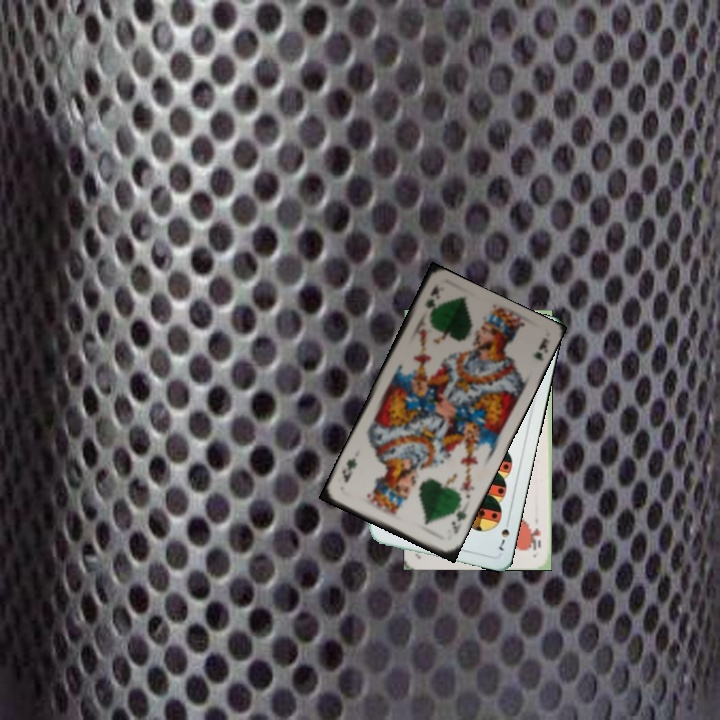GK: (421, 282, 441, 321), (447, 502, 469, 536)
HO: (527, 524, 544, 552)
S7: (495, 515, 512, 553)
